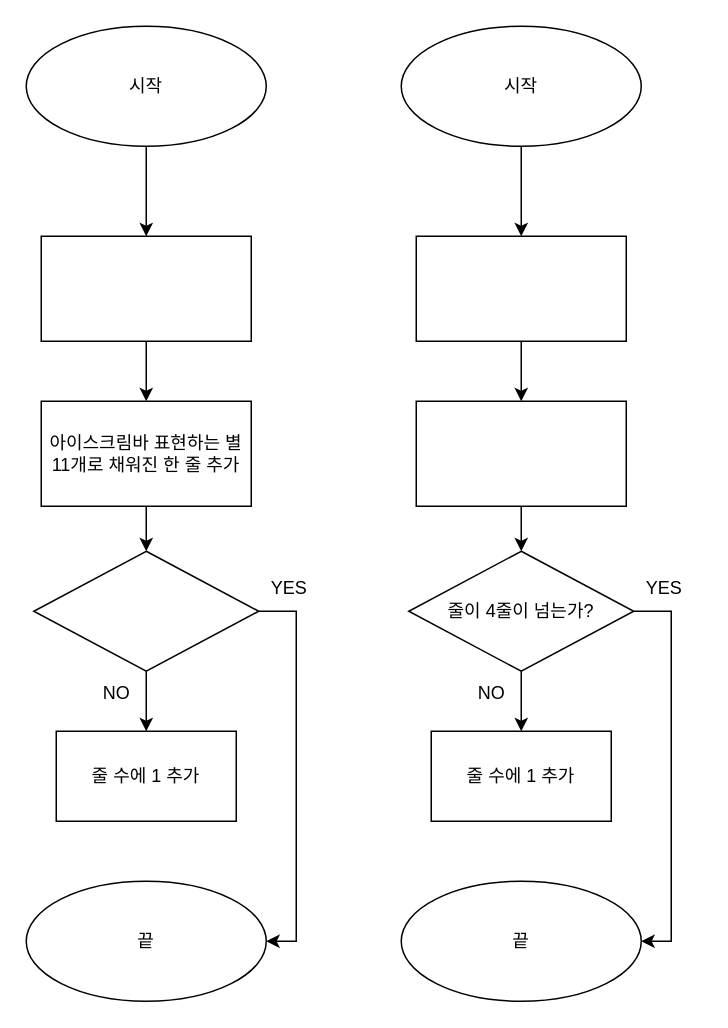
Image size: 728x1028. Some labels were removed from this diagram. Here are the shapes that lost their labels. From the top down, the box of each, then its label:
(40, 235, 251, 341): 별 수 11개, 줄 수 1줄
(415, 235, 626, 341): 아이스크림 바를 표현하는 문자열 1줄
(415, 400, 626, 506): "| |" 한 줄 추가
(32, 550, 259, 671): 줄이 8줄이 넘는가?
